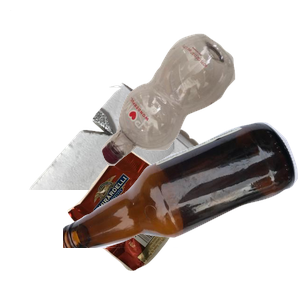glass: (63, 120, 300, 300)
paper: (10, 10, 250, 190)
plastic: (99, 31, 300, 189)
trash: (65, 145, 242, 300)
